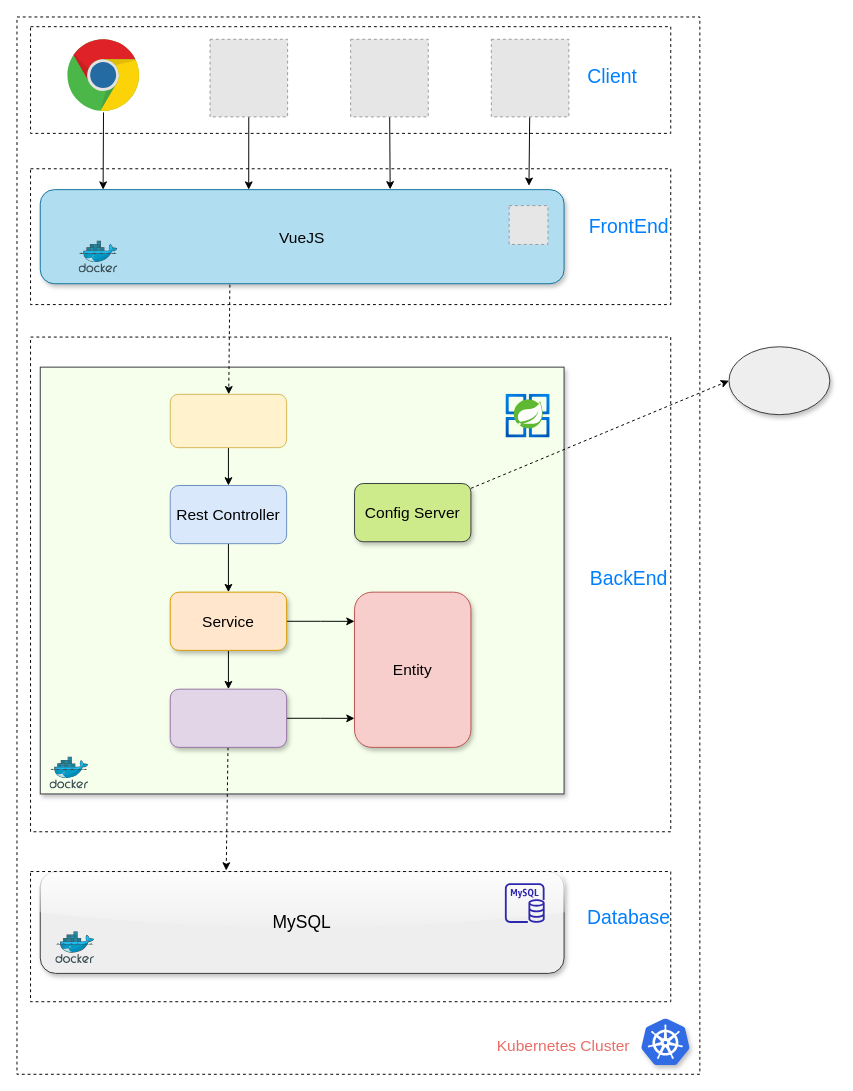
This 853x1091 diagram has some shape labels left out. Grey dashed boxes stand in for pictures. The shapes that lost their labels are listed below. From the top down, each one's centre as x and y in pixels, then its label:
At pixel 780 381: "Git repo".
At pixel 228 420: "API gateway".
At pixel 228 719: "JPA Repository".
